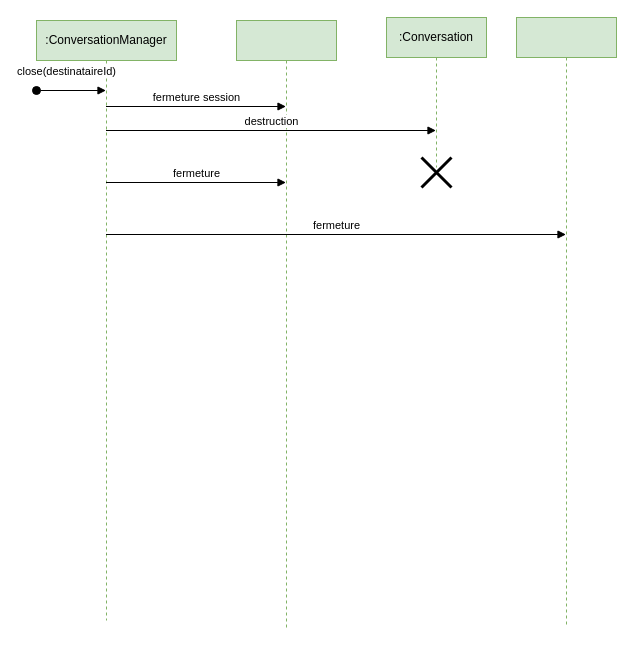
The diagram is 634 pixels wide and 648 high, and some of its shapes have lost their labels. The box of each missing label's shape, as (x1, y1, x2, y2) in pixels:
:TCPReceiveData: (516, 16, 616, 628)
:TCPSendData: (236, 20, 336, 630)
